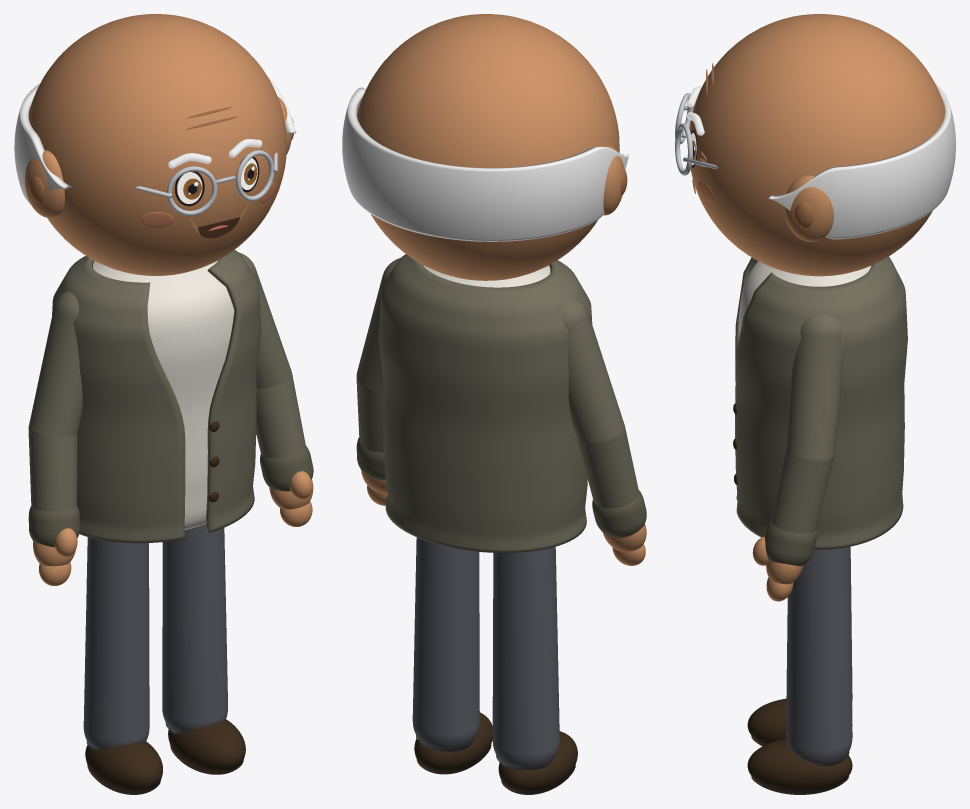
Rendered from pestkop_oud.glb.
3 views of the same model, side by side, from view 1: azimuth 30°, elevation 25°; view 2: azimuth 150°, elevation 25°; view 3: azimuth 270°, elevation 25° (orthographic).
Parts seen in each view (by area): view 1: pestkop_oud_hoofd, pestkop_oud_vest, pestkop_oud_been_R, pestkop_oud_been_L, pestkop_oud_romp, pestkop_oud_bovenarm_R, pestkop_oud_onderarm_R, pestkop_oud_onderarm_L, pestkop_oud_schoen_R, pestkop_oud_schoen_L, pestkop_oud_haar, pestkop_oud_bovenarm_L (+10 smaller); view 2: pestkop_oud_vest, pestkop_oud_hoofd, pestkop_oud_haar, pestkop_oud_been_R, pestkop_oud_been_L, pestkop_oud_bovenarm_R, pestkop_oud_onderarm_R, pestkop_oud_schoen_R, pestkop_oud_schoen_L, pestkop_oud_bovenarm_L, pestkop_oud_onderarm_L, pestkop_oud_manchet_R (+4 smaller); view 3: pestkop_oud_hoofd, pestkop_oud_vest, pestkop_oud_been_L, pestkop_oud_haar, pestkop_oud_bovenarm_L, pestkop_oud_onderarm_L, pestkop_oud_schoen_L, pestkop_oud_oor_L, pestkop_oud_romp, pestkop_oud_manchet_L, pestkop_oud_schoen_R, pestkop_oud_hand_L (+1 smaller).
Part boxes in pixels (x1,y1,x2,y2): pestkop_oud_hoofd: [28, 14, 286, 275]; pestkop_oud_vest: [52, 249, 261, 543]; pestkop_oud_been_R: [83, 537, 149, 749]; pestkop_oud_been_L: [162, 524, 227, 732]; pestkop_oud_romp: [93, 260, 234, 529]; pestkop_oud_bovenarm_R: [29, 291, 82, 436]; pestkop_oud_onderarm_R: [28, 429, 77, 511]; pestkop_oud_onderarm_L: [256, 374, 305, 457]; pestkop_oud_schoen_R: [85, 741, 162, 792]; pestkop_oud_schoen_L: [168, 719, 245, 771]; pestkop_oud_haar: [14, 78, 296, 204]; pestkop_oud_bovenarm_L: [239, 252, 291, 388]; pestkop_oud_vest: [379, 254, 592, 552]; pestkop_oud_hoofd: [357, 14, 619, 280]; pestkop_oud_haar: [342, 87, 629, 241]; pestkop_oud_been_R: [492, 546, 559, 768]; pestkop_oud_been_L: [412, 537, 479, 748]; pestkop_oud_bovenarm_R: [561, 298, 624, 444]; pestkop_oud_onderarm_R: [577, 425, 638, 508]; pestkop_oud_schoen_R: [498, 731, 577, 792]; pestkop_oud_schoen_L: [414, 712, 492, 771]; pestkop_oud_bovenarm_L: [357, 258, 400, 391]; pestkop_oud_onderarm_L: [356, 376, 384, 452]; pestkop_oud_manchet_R: [592, 490, 646, 538]; pestkop_oud_hoofd: [689, 14, 945, 276]; pestkop_oud_vest: [735, 256, 907, 549]; pestkop_oud_been_L: [786, 546, 852, 764]; pestkop_oud_haar: [768, 83, 955, 239]; pestkop_oud_bovenarm_L: [786, 314, 842, 463]; pestkop_oud_onderarm_L: [771, 451, 834, 533]; pestkop_oud_schoen_L: [747, 739, 852, 790]; pestkop_oud_oor_L: [784, 175, 833, 241]; pestkop_oud_romp: [739, 261, 871, 336]; pestkop_oud_manchet_L: [764, 520, 816, 566]; pestkop_oud_schoen_R: [747, 698, 852, 745]; pestkop_oud_hand_L: [766, 560, 803, 584].
Size of the model in its own units: 0.6607 by 1.69 by 0.5781.
